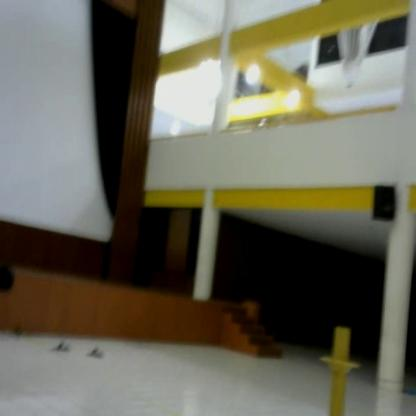pole: (316, 324, 368, 416)
